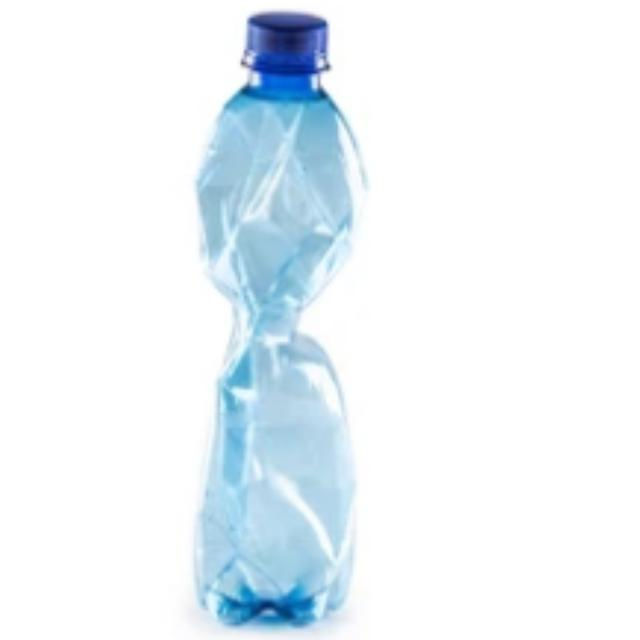Plastic: (133, 0, 412, 622), (0, 0, 22, 622)
